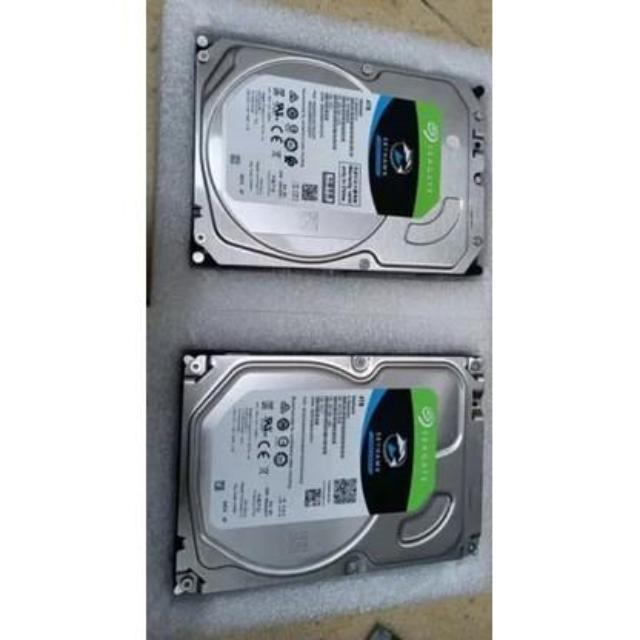DISK: (177, 336, 489, 588), (190, 30, 487, 282)
